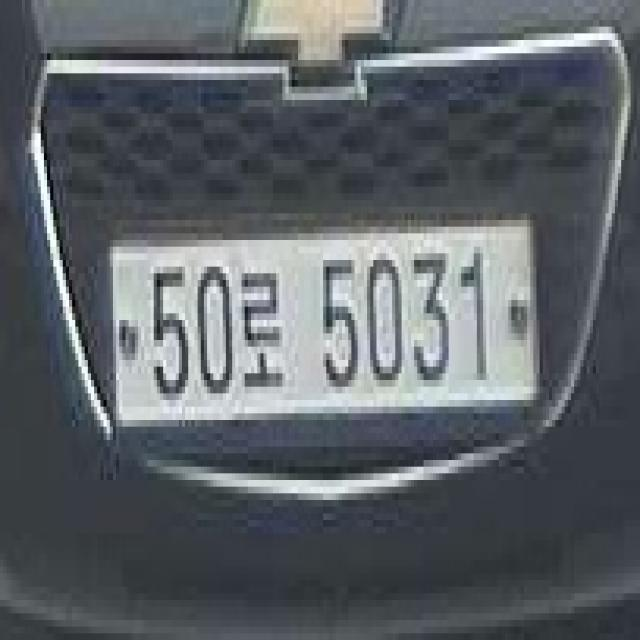0: (195, 258, 234, 404), (368, 248, 404, 386)
1: (460, 245, 488, 390)
3: (411, 245, 451, 397)
5: (148, 263, 190, 404), (324, 249, 360, 395)
license_plate: (106, 198, 543, 432)
lo: (236, 260, 286, 400)
